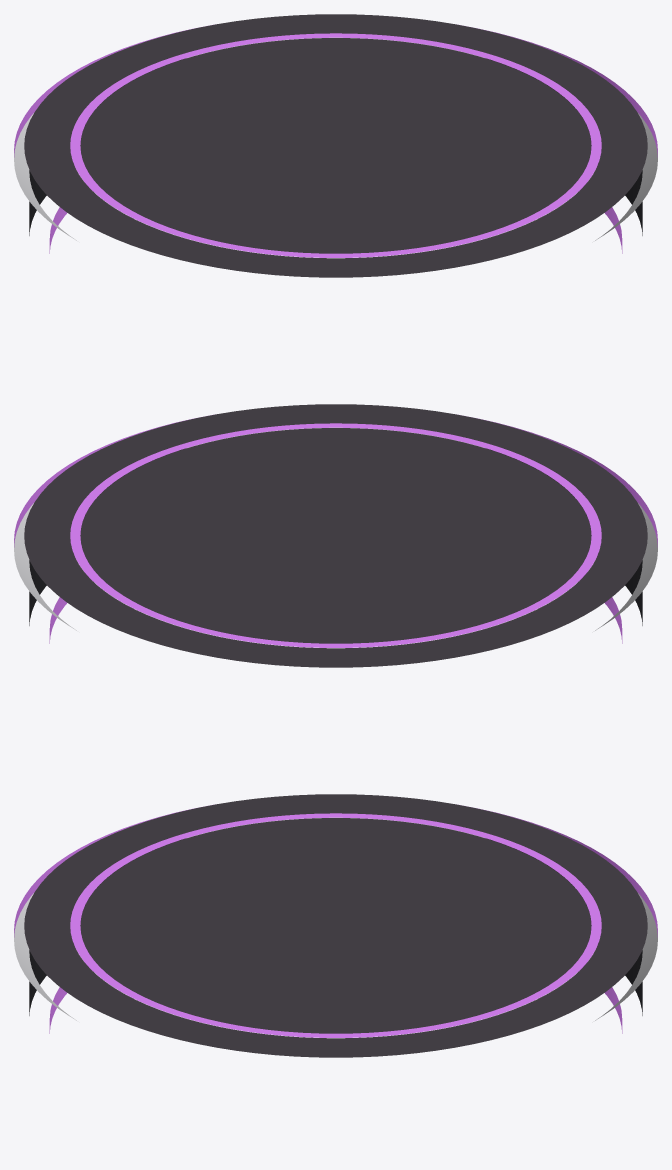
The model's file is podium2_violet.glb.
3 renders of one model, top to bottom at view 1: azimuth 30°, elevation 25°; view 2: azimuth 150°, elevation 25°; view 3: azimuth 270°, elevation 25°, orthographic.
Parts seen in each view (by area): view 1: p8, p6, p7, p3, p4, p2; view 2: p8, p6, p7, p3, p4, p2; view 3: p8, p6, p7, p3, p4, p2.
Part boxes in pixels (x1,y1,x2,y2): p8: (80, 38, 591, 253); p6: (24, 14, 647, 277); p7: (70, 33, 601, 257); p3: (14, 37, 657, 240); p4: (14, 24, 657, 157); p2: (29, 58, 642, 235); p8: (80, 428, 591, 643); p6: (24, 404, 647, 667); p7: (70, 423, 601, 647); p3: (14, 427, 657, 630); p4: (14, 414, 657, 547); p2: (29, 448, 642, 625); p8: (80, 818, 591, 1033); p6: (24, 794, 647, 1057); p7: (70, 813, 601, 1037); p3: (14, 817, 657, 1020); p4: (14, 804, 657, 937); p2: (29, 838, 642, 1015).
Size of the model in its own units: 2.52 by 0.471 by 2.52.
